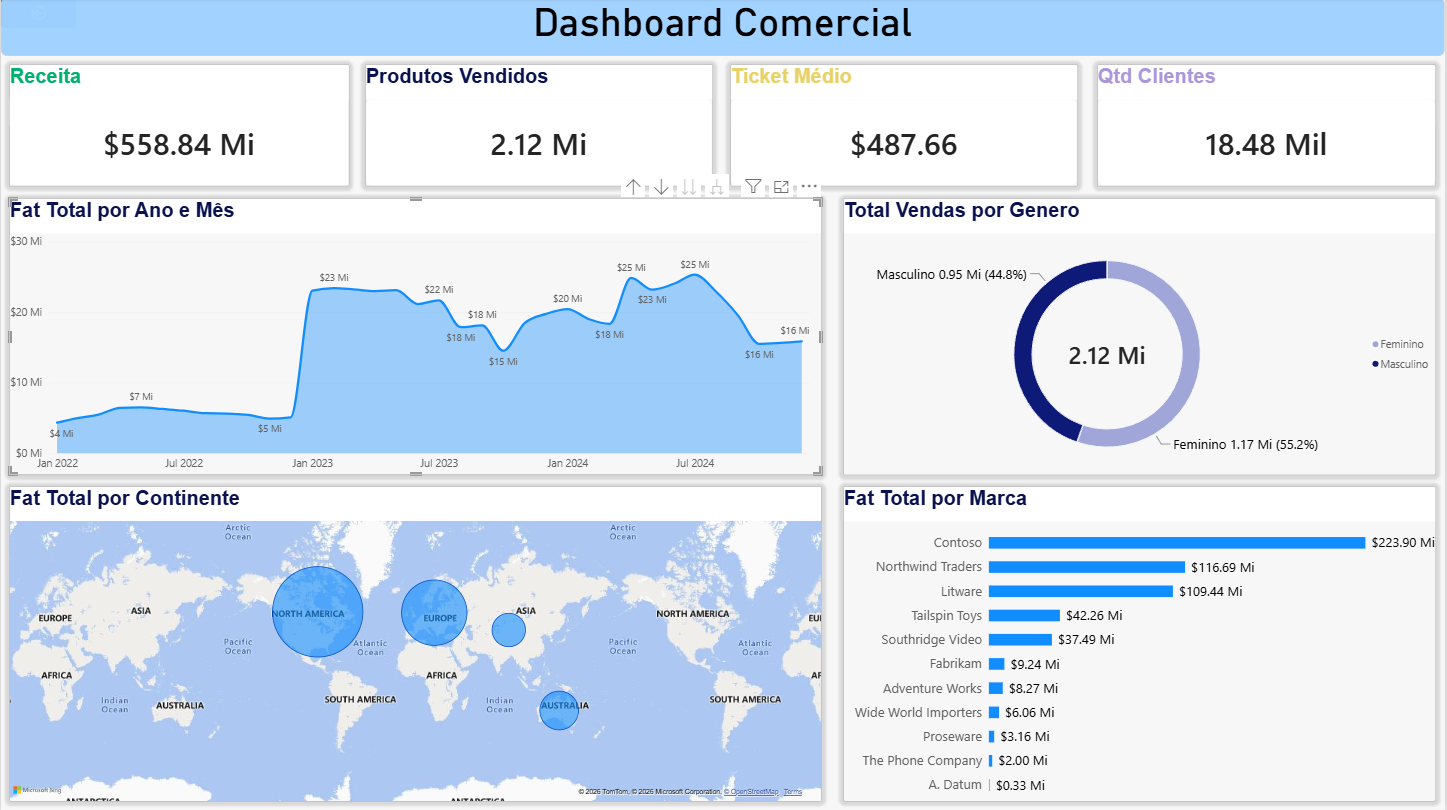

This screenshot's page, from the dashboard's own definition file:
{"tool":"powerbi","page":{"name":"Página 1","canvas":[1920,1080],"ordinal":0},"visuals":[{"type":"actionButton","box":[0,0,100,40],"z":0},{"type":"textbox","box":[0,0,1920,77.1],"z":1000},{"type":"cardVisual","title":"Receita","fields":{"Data":["BaseDeVendas.Fat Total"]},"box":[10,87.1,452.9,162.9],"z":2000},{"type":"cardVisual","title":"Produtos Vendidos","fields":{"Data":["BaseDeVendas.Total Vendas"]},"box":[484.3,87.1,462.9,162.9],"z":2001},{"type":"cardVisual","title":"Ticket Médio","fields":{"Data":["BaseDeVendas.Ticket Médio"]},"box":[970,87.1,462.9,162.9],"z":2002},{"type":"cardVisual","title":"Qtd Clientes","fields":{"Data":["BaseDeVendas.Qtd Clientes"]},"box":[1457.1,87.1,451.4,162.9],"z":2003},{"type":"areaChart","fields":{"Category":["BaseDeVendas.Data Venda.Variação.Hierarquia de datas.Ano","BaseDeVendas.Data Venda.Variação.Hierarquia de datas.Mês"],"Y":["BaseDeVendas.Fat Total"]},"box":[10,265.7,1081.4,368.6],"z":2004},{"type":"donutChart","fields":{"Category":["CadastroClientes.Genero"],"Y":["BaseDeVendas.Total Vendas"]},"box":[1120,265.7,788.6,368.6],"z":2005},{"type":"barChart","fields":{"Category":["CadastroProdutos.Marca"],"Y":["BaseDeVendas.Fat Total"]},"box":[1120,648.6,788.6,420],"z":2006},{"type":"map","fields":{"Category":["CadastroLojas.Continente"]},"box":[10,649,1081,420],"z":2007}]}

Visuals, with their boxes in screenshot pixels (x1, y1, x2, y2), scaled from the page's 1920x1080 canvas onto the 1447x810 screenshot:
actionButton: x1=0, y1=0, x2=75, y2=30
textbox: x1=0, y1=0, x2=1446, y2=58
"Receita" cardVisual: x1=8, y1=65, x2=349, y2=188
"Produtos Vendidos" cardVisual: x1=365, y1=65, x2=714, y2=188
"Ticket Médio" cardVisual: x1=731, y1=65, x2=1080, y2=188
"Qtd Clientes" cardVisual: x1=1098, y1=65, x2=1438, y2=188
areaChart - BaseDeVendas.Data Venda.Variação.Hierarquia de datas.Ano x BaseDeVendas.Data Venda.Variação.Hierarquia de datas.Mês: x1=8, y1=199, x2=823, y2=476
donutChart - CadastroClientes.Genero x BaseDeVendas.Total Vendas: x1=844, y1=199, x2=1438, y2=476
barChart - CadastroProdutos.Marca x BaseDeVendas.Fat Total: x1=844, y1=486, x2=1438, y2=801
map - CadastroLojas.Continente: x1=8, y1=487, x2=822, y2=802
